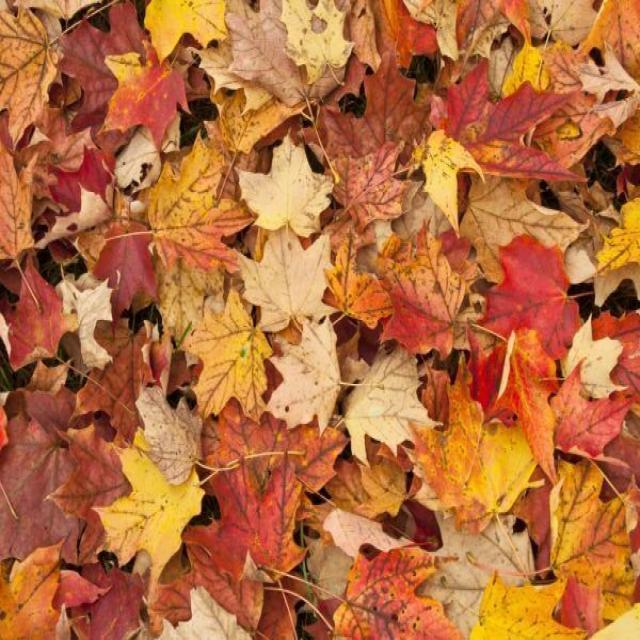green waste: (1, 1, 638, 636)
